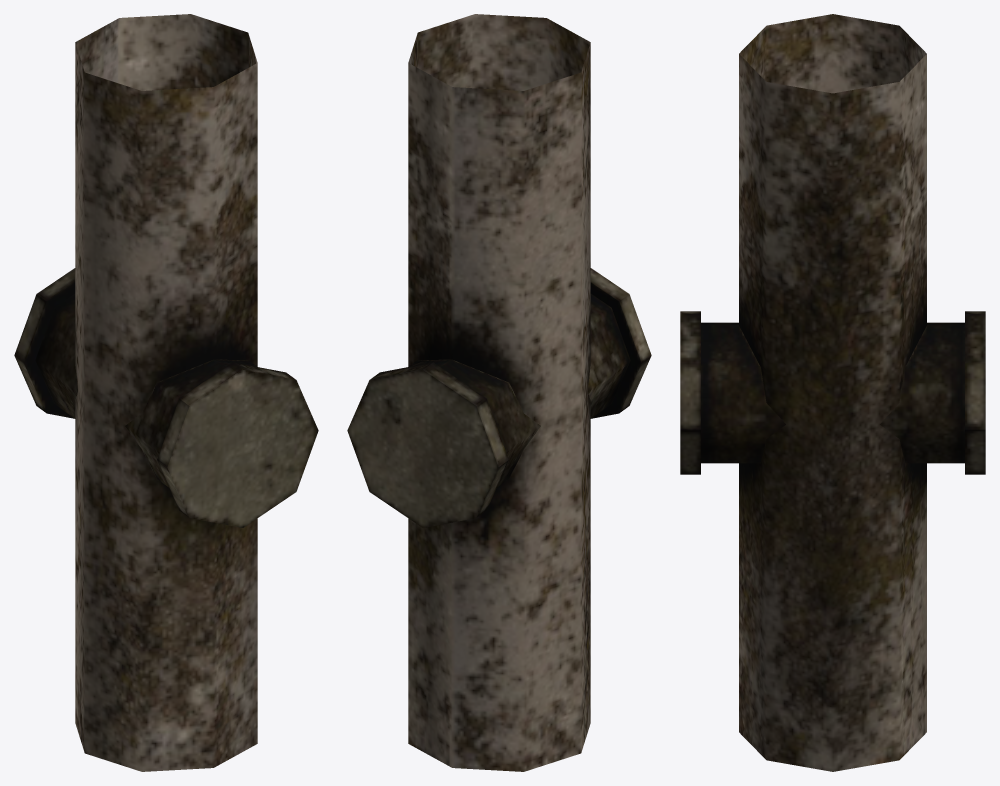
File: ExtPipe_10.FBX
The picture shows the model from 3 angles, left to right: view 1: azimuth 30°, elevation 25°; view 2: azimuth 150°, elevation 25°; view 3: azimuth 270°, elevation 25°; orthographic projection.
Visible parts, largest first — view 1: ExtPipe_10; view 2: ExtPipe_10; view 3: ExtPipe_10.
Part boxes in pixels (bbox=[...]): ExtPipe_10: bbox=[14, 14, 318, 771]; ExtPipe_10: bbox=[347, 14, 651, 771]; ExtPipe_10: bbox=[680, 14, 985, 771].
Size of the model in its own units: 12 by 47.76 by 19.46.
